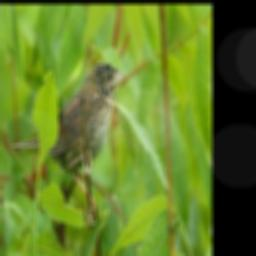Sparrow: (7, 60, 124, 229)
